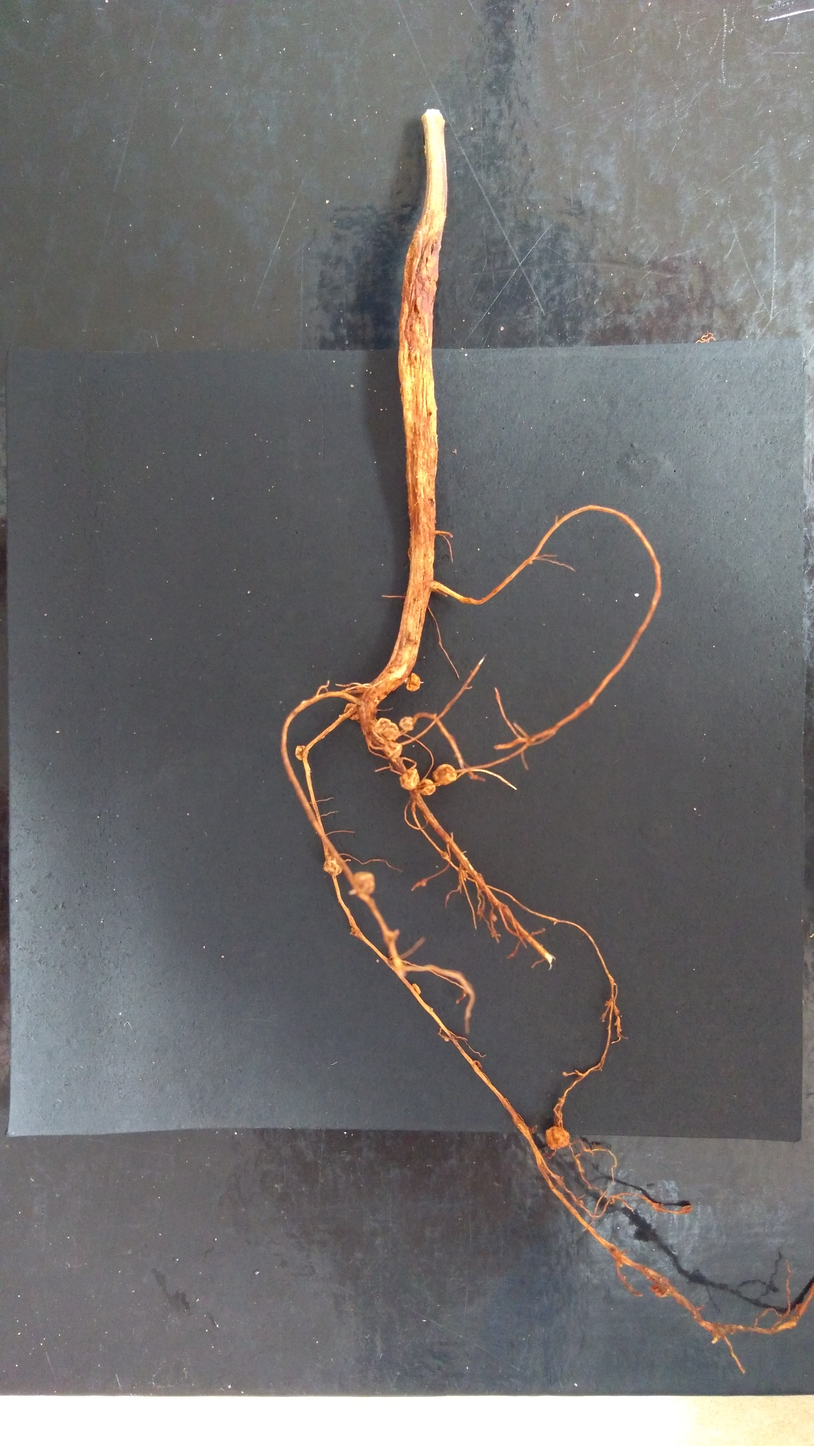nodule: (542, 1124, 572, 1153), (372, 715, 402, 742), (351, 869, 377, 897), (431, 762, 459, 787), (398, 766, 421, 792), (322, 853, 344, 878), (382, 740, 404, 759), (405, 671, 422, 695), (342, 701, 361, 722), (419, 777, 437, 797), (397, 715, 415, 733), (294, 743, 310, 762)
